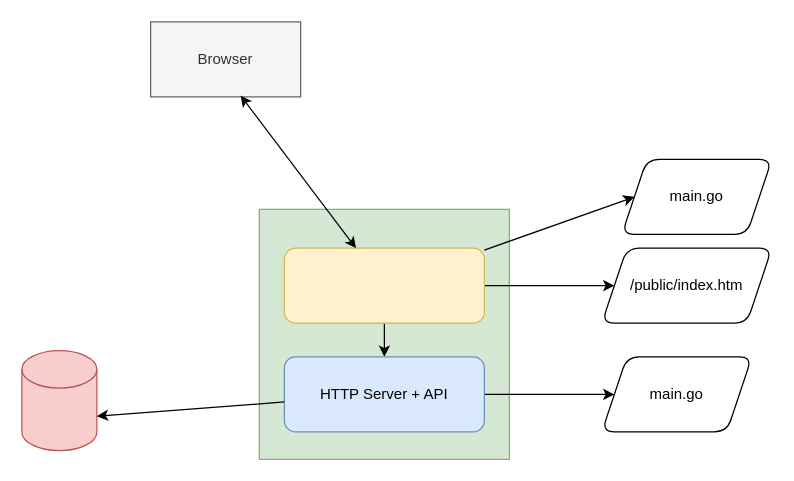
Some shapes in this 794 by 481 pixel diagram are drawn without their labels. Here are the shapes that lost their labels. From the top down, the box of each, then its label:
(283, 247, 484, 323): HTTP Server + Front (SPA)
(258, 208, 509, 459): WebApp
(21, 349, 97, 451): Redis
